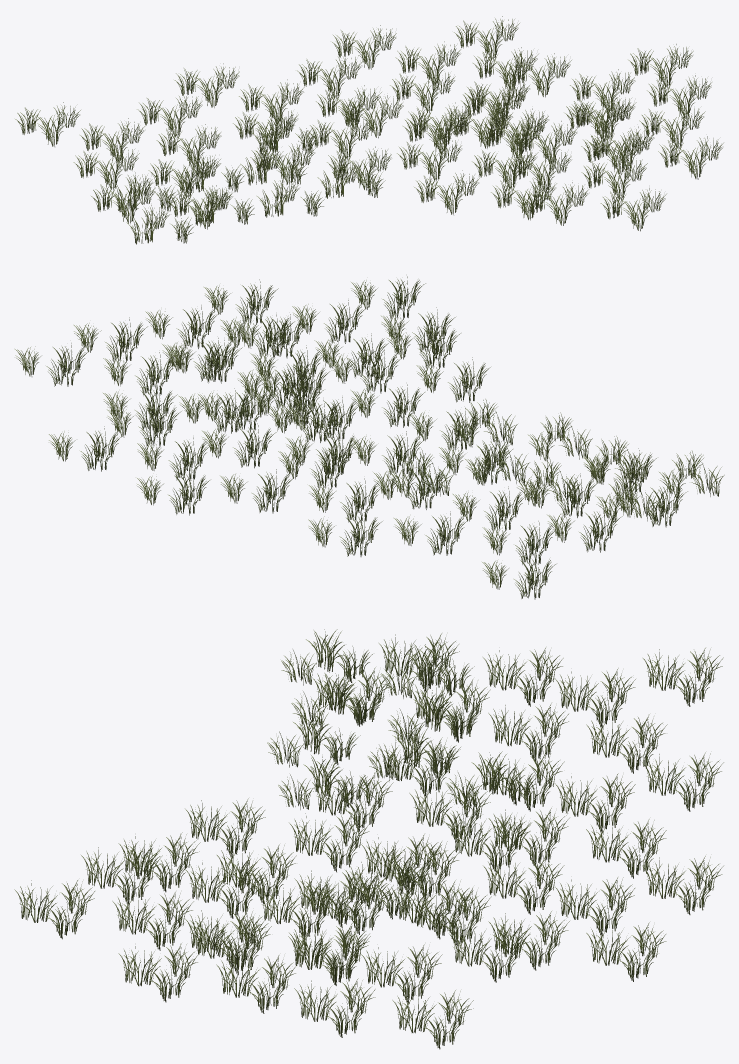
The model's file is zandi4.fbx.
3 renders of one model, top to bottom at view 1: azimuth 30°, elevation 25°; view 2: azimuth 150°, elevation 25°; view 3: azimuth 270°, elevation 25°, orthographic. The views are drawn at different scales.
Visible parts, largest first — view 1: LV_Gnollando_Foliage_CityGrass02A_PM_KJH.016; view 2: LV_Gnollando_Foliage_CityGrass02A_PM_KJH.016; view 3: LV_Gnollando_Foliage_CityGrass02A_PM_KJH.016.
Part boxes in pixels (box(x1,y1,x2,y2)): LV_Gnollando_Foliage_CityGrass02A_PM_KJH.016: box(15, 16, 723, 244); LV_Gnollando_Foliage_CityGrass02A_PM_KJH.016: box(15, 276, 724, 599); LV_Gnollando_Foliage_CityGrass02A_PM_KJH.016: box(14, 629, 723, 1049).
Bounding box in the file's own units: 9.51 × 0.3788 × 7.15.
